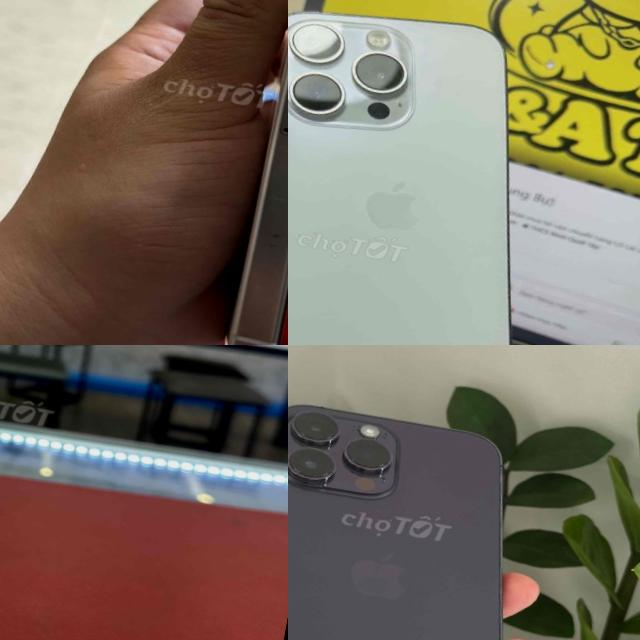gen_14: (288, 379, 560, 640)
gen_15: (288, 0, 570, 345), (180, 0, 288, 345)
